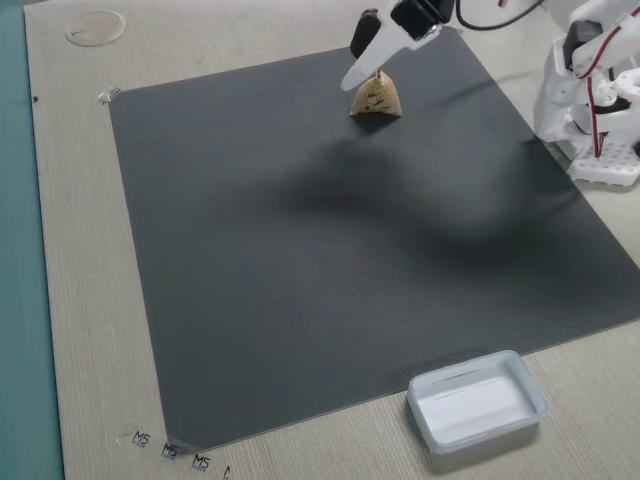gripper: (324, 6, 447, 97)
